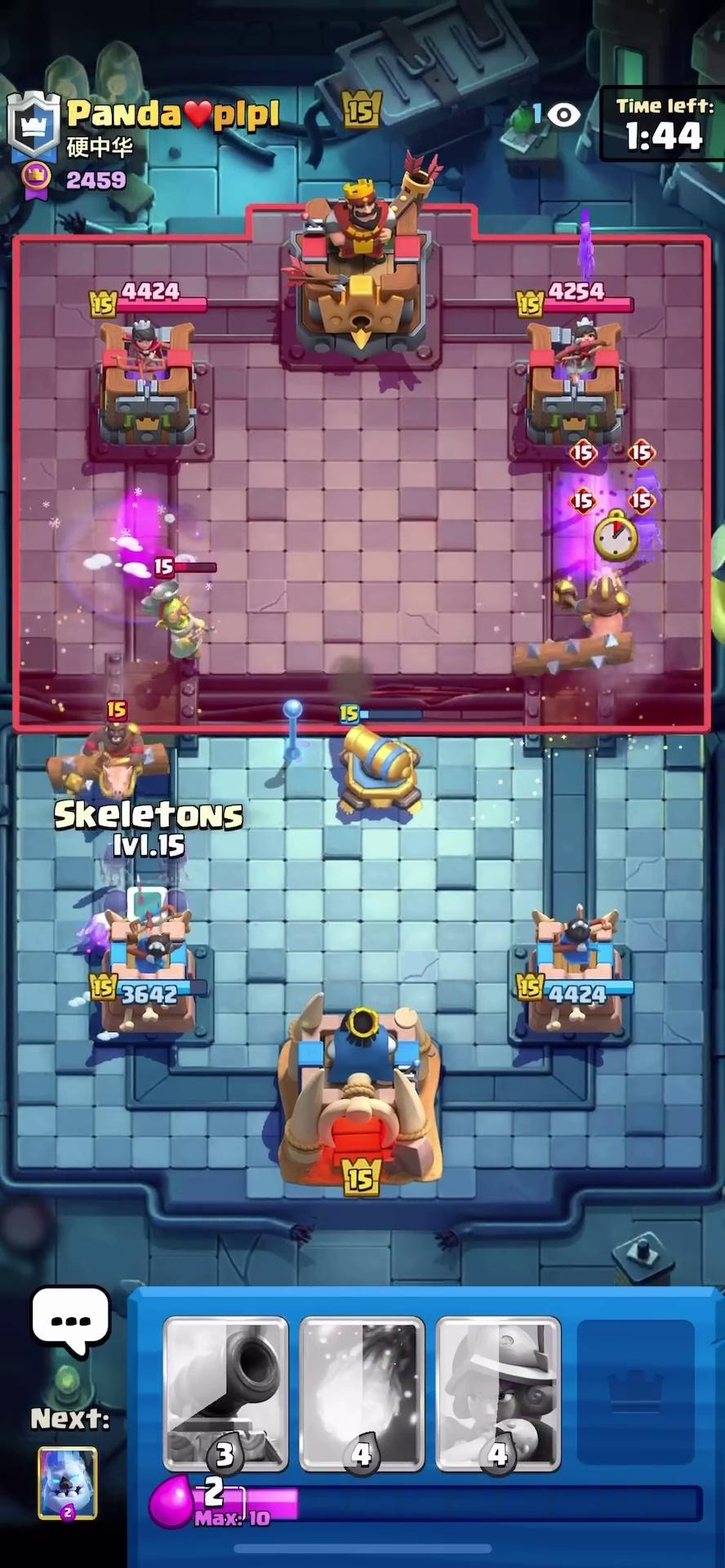cannon: (322, 706, 437, 821)
hog_rider: (559, 559, 641, 651)
log: (502, 631, 659, 678)
